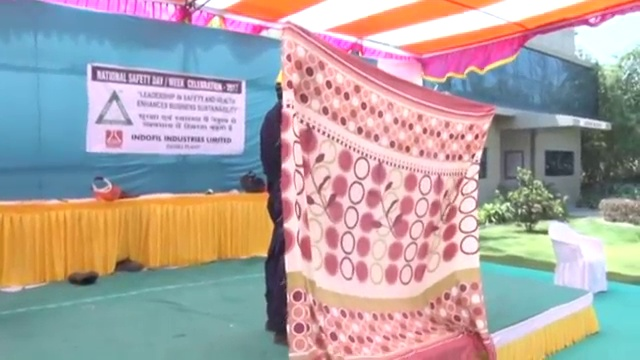person: (259, 69, 291, 349)
